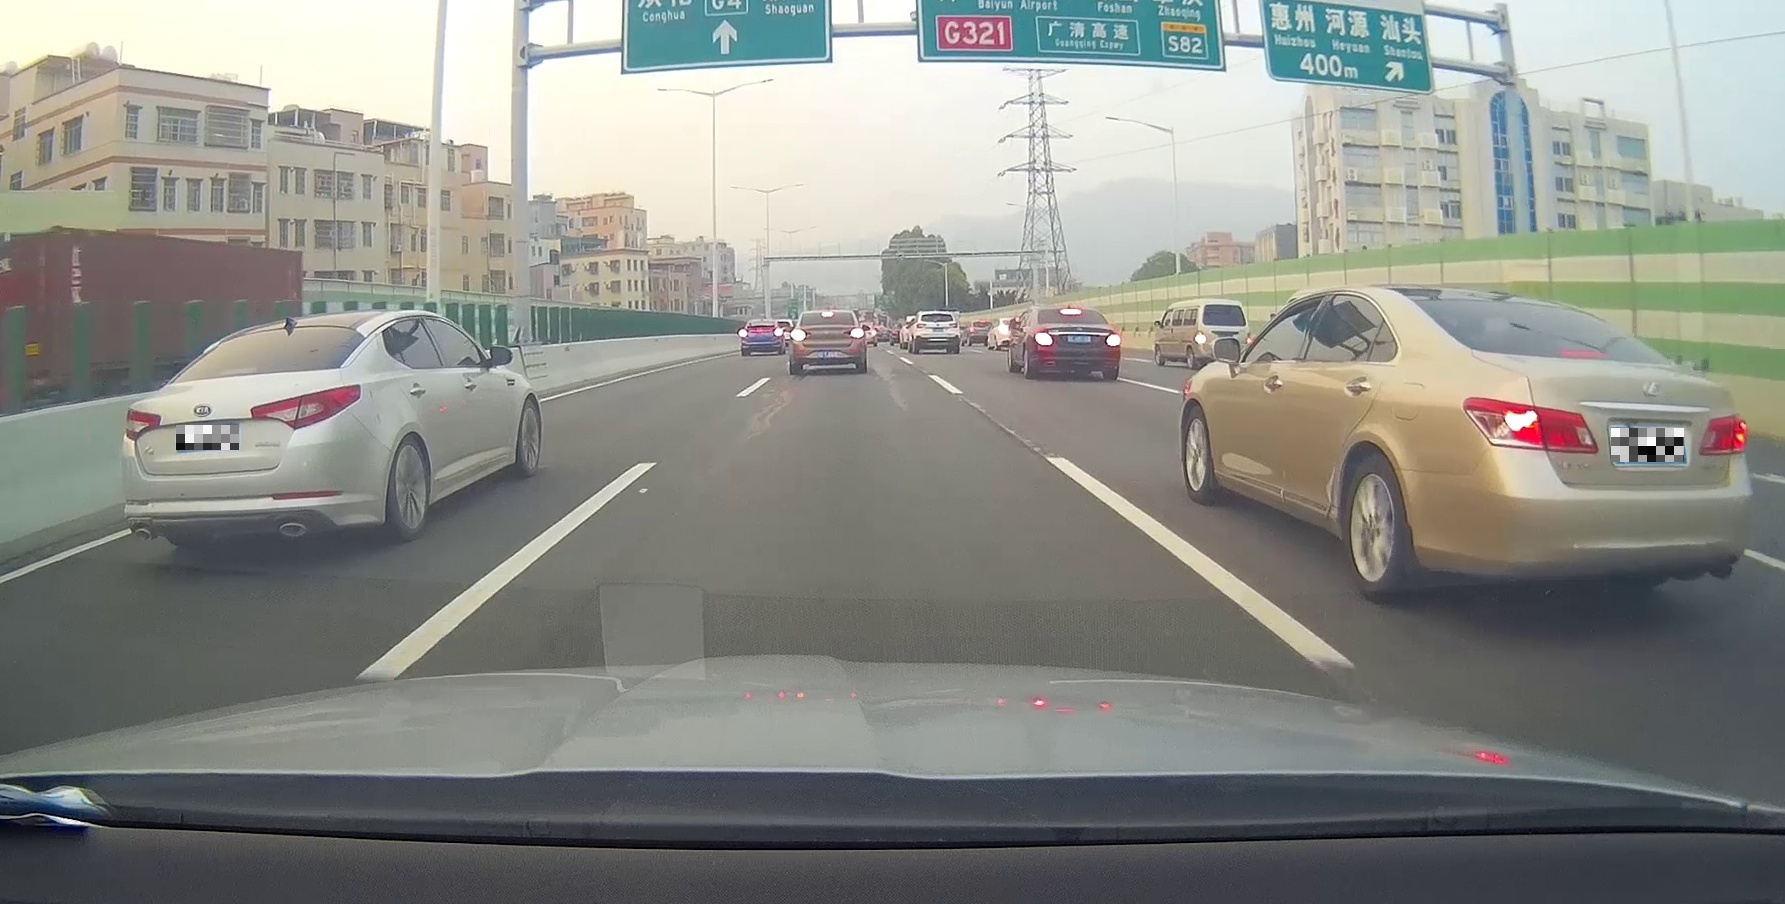L_light: (1463, 395, 1597, 454), (123, 408, 161, 440), (791, 327, 811, 342), (1034, 332, 1053, 346)
R_light: (250, 383, 362, 429), (1696, 410, 1748, 455), (844, 326, 864, 339), (1104, 333, 1121, 346)
T_light: (1559, 348, 1608, 359), (222, 366, 257, 375), (1061, 309, 1080, 314), (820, 311, 833, 315)
day-brake: (1397, 291, 1753, 612), (1029, 306, 1121, 379), (789, 307, 867, 374)
day-no: (120, 317, 368, 553)
plate_1: (176, 425, 239, 450)
plate_2: (1611, 428, 1684, 462)
